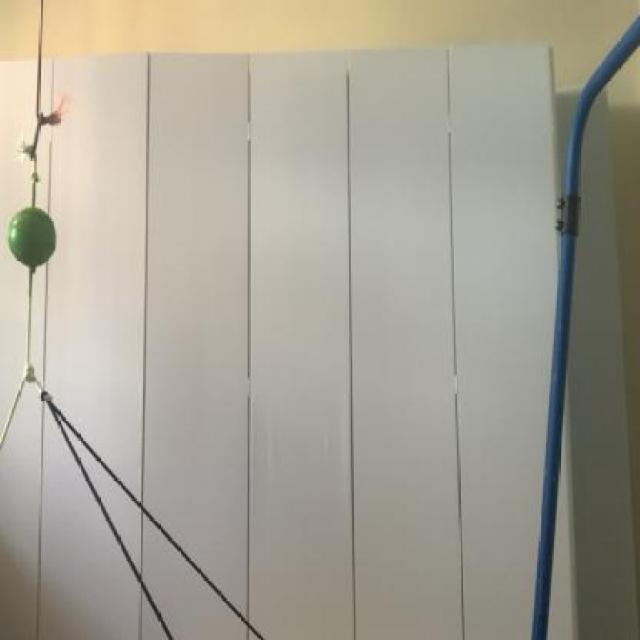baseball: (0, 198, 65, 278)
